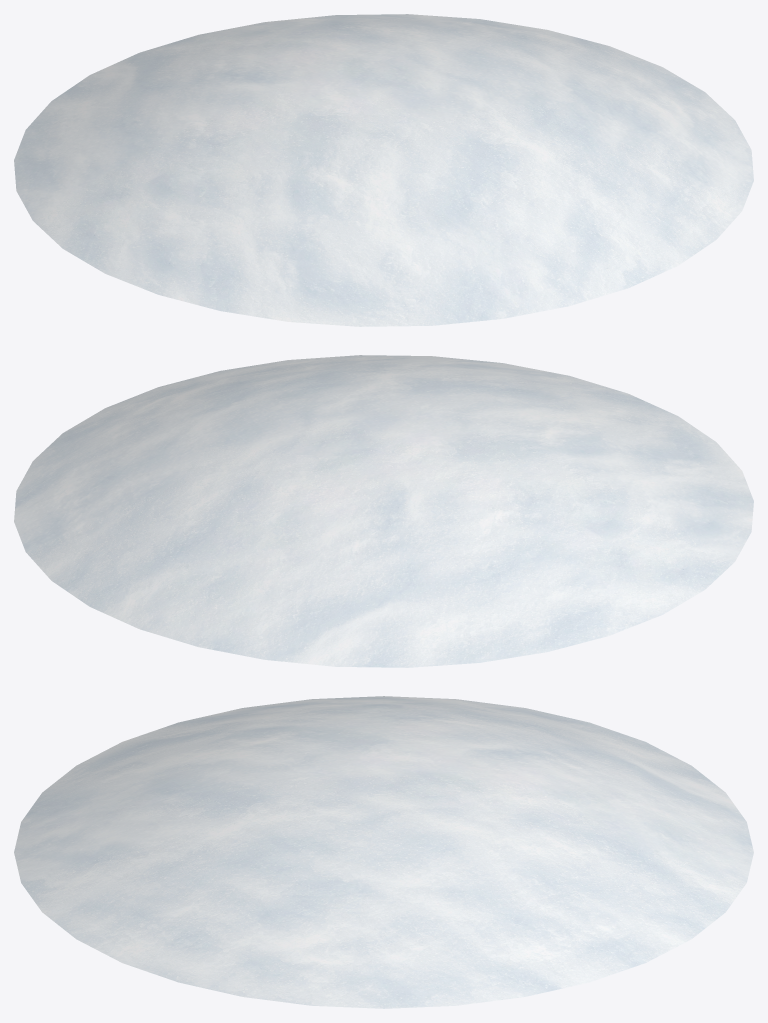
Rendered from Polar_Ground_02.fbx.
3 renders of one model, top to bottom at view 1: azimuth 30°, elevation 25°; view 2: azimuth 150°, elevation 25°; view 3: azimuth 270°, elevation 25°, orthographic.
Visible parts, largest first — view 1: Polar_Ground_02; view 2: Polar_Ground_02; view 3: Polar_Ground_02.
Part boxes in pixels (x1,y1,x2,y2): Polar_Ground_02: (14, 14, 753, 326); Polar_Ground_02: (14, 355, 753, 667); Polar_Ground_02: (14, 696, 753, 1008).
Size of the model in its own units: 1561 by 1561 by 181.
